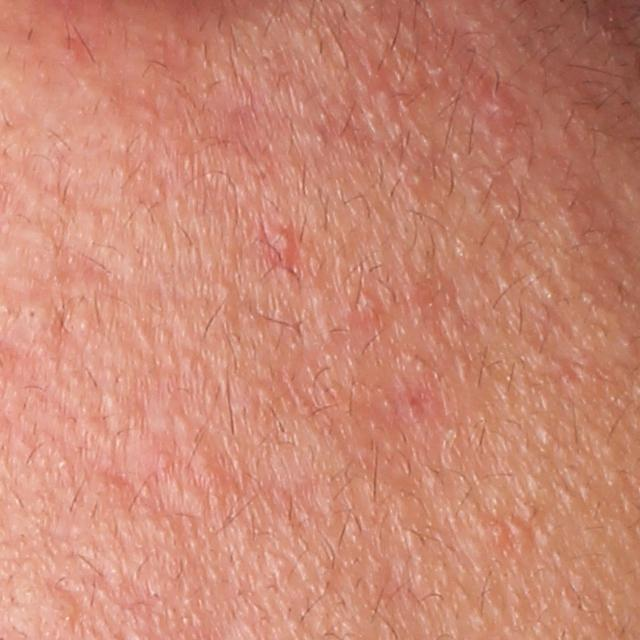comedo: (22, 305, 46, 328), (217, 281, 236, 303)
papule: (471, 73, 535, 135), (262, 229, 300, 273), (356, 290, 384, 318)
